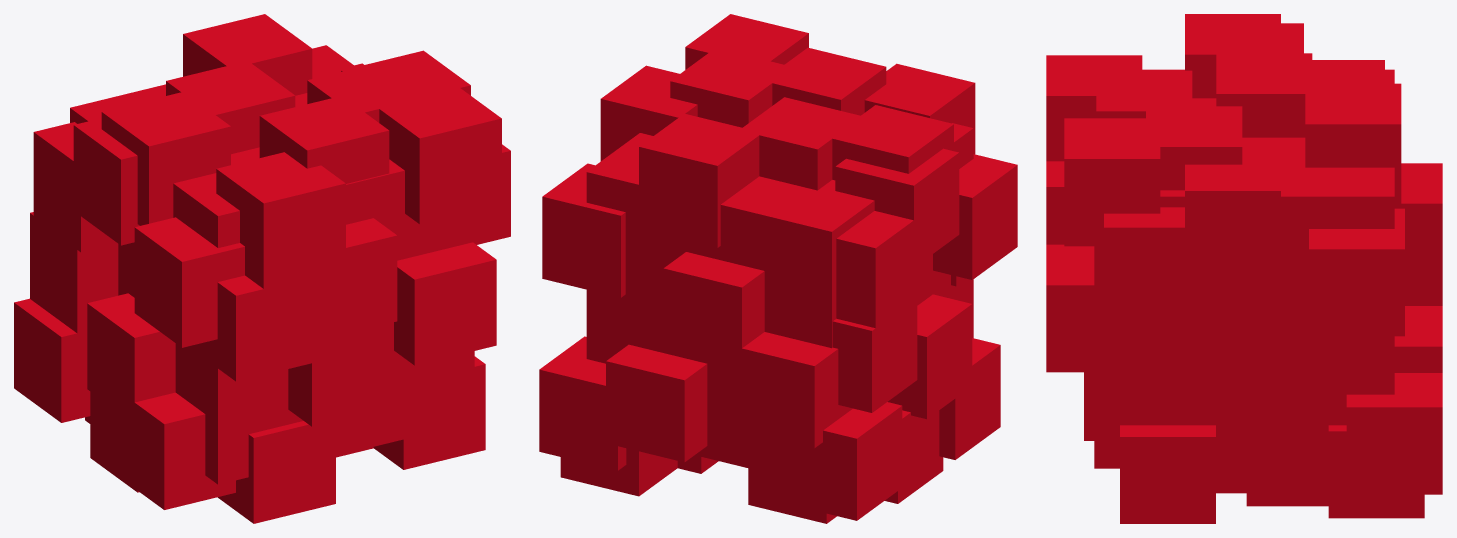
The model's file is HealthDrop.fbx.
3 renders of one model, left to right at view 1: azimuth 30°, elevation 25°; view 2: azimuth 150°, elevation 25°; view 3: azimuth 270°, elevation 25°, orthographic. The views are drawn at different scales.
Visible parts, largest first — view 1: Cube; view 2: Cube; view 3: Cube.
Boxes of the visible parts, x1,y1,x2,y2 form: Cube: [14, 14, 510, 523]; Cube: [539, 14, 1017, 523]; Cube: [1046, 14, 1442, 523].
Size of the model in its own units: 264 by 264 by 264.
